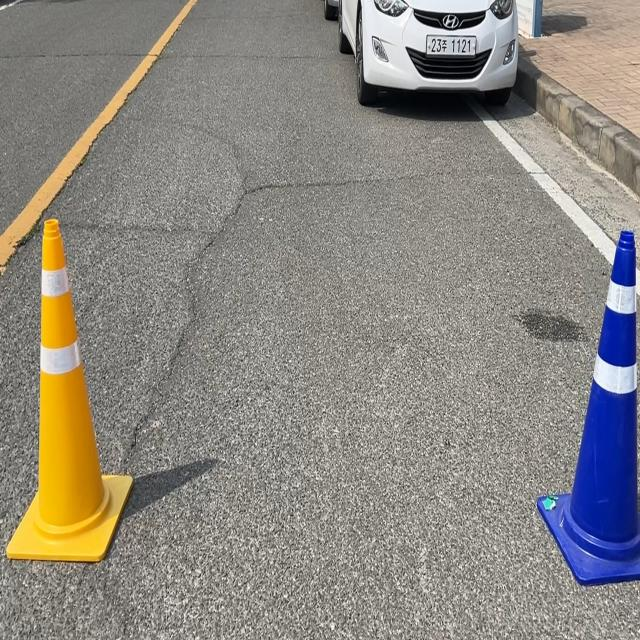b_rub: (538, 231, 640, 585)
y_rub: (5, 219, 132, 561)
